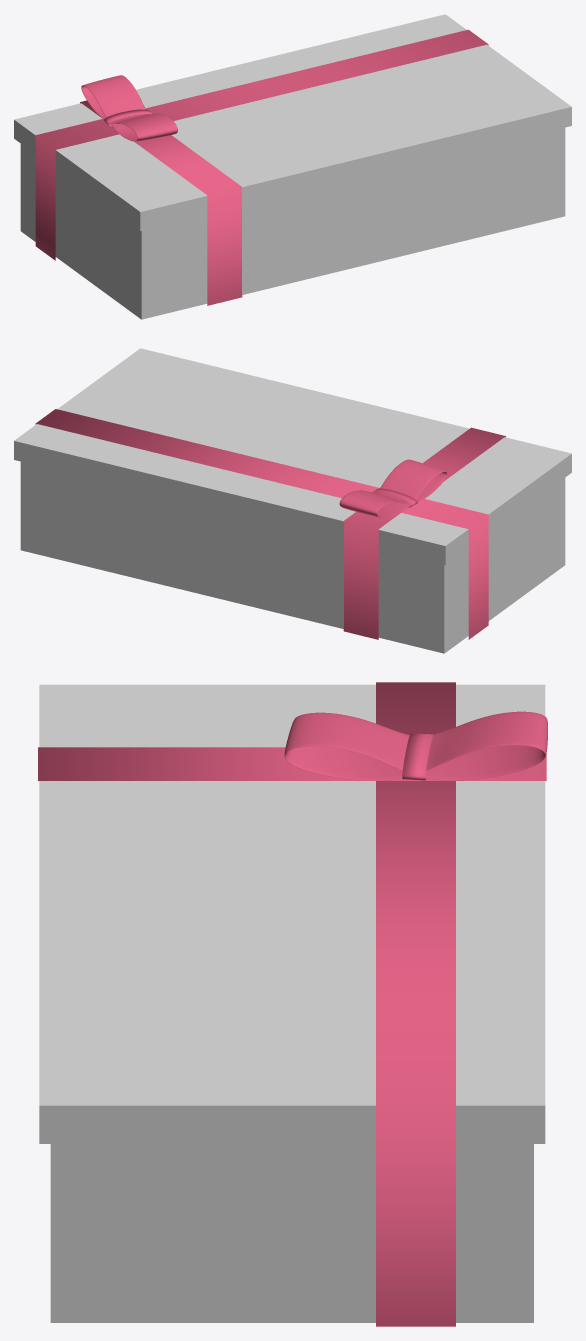
File: Presente_01.fbx
3 views of the same model, one above another, from view 1: azimuth 30°, elevation 25°; view 2: azimuth 150°, elevation 25°; view 3: azimuth 270°, elevation 25° (orthographic). The views are drawn at different scales.
Visible parts, largest first — view 1: Presente_01; view 2: Presente_01; view 3: Presente_01.
Boxes of the visible parts, <box> form: Presente_01: <box>14,14,571,319</box>; Presente_01: <box>14,348,571,653</box>; Presente_01: <box>38,682,547,1326</box>.
Size of the model in its own units: 175 by 50.86 by 89.23.
